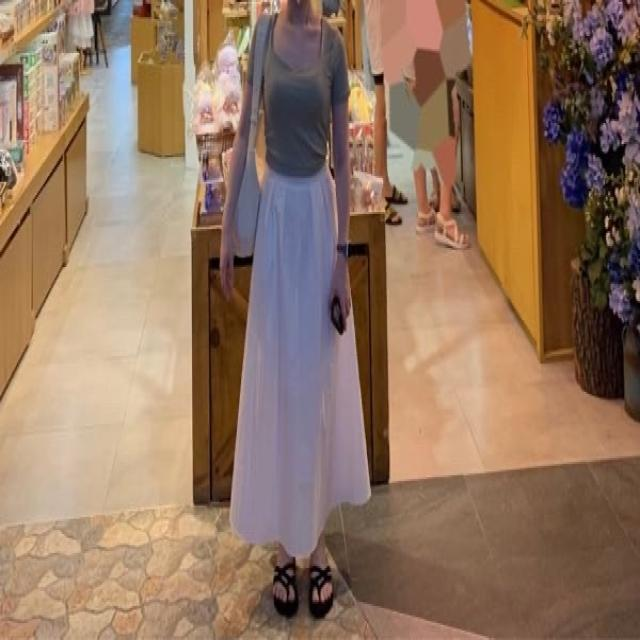shortsleeve: (245, 7, 349, 176)
skirt: (229, 156, 375, 556)
